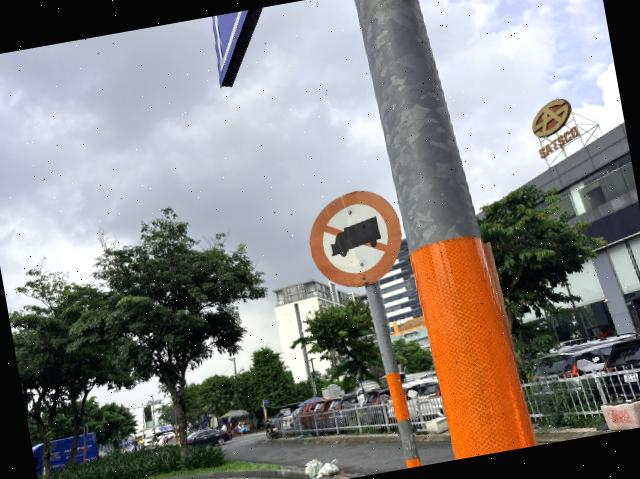cam-xe-tai: (302, 184, 411, 294)
